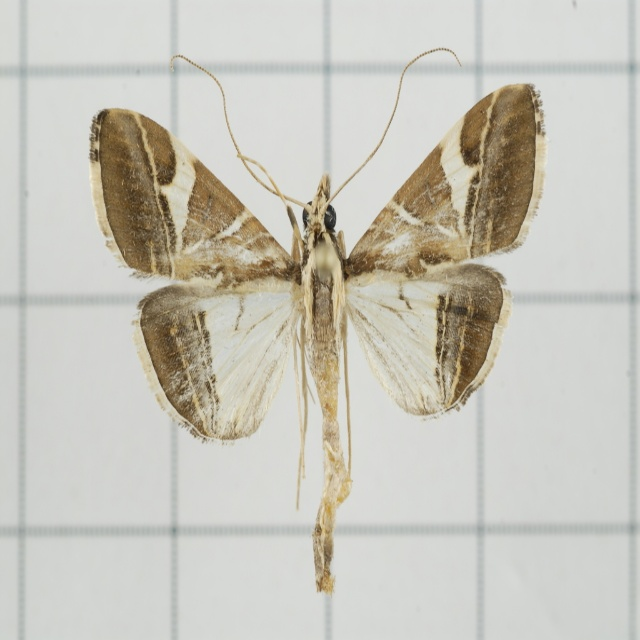Butterfly: (106, 52, 536, 582)
